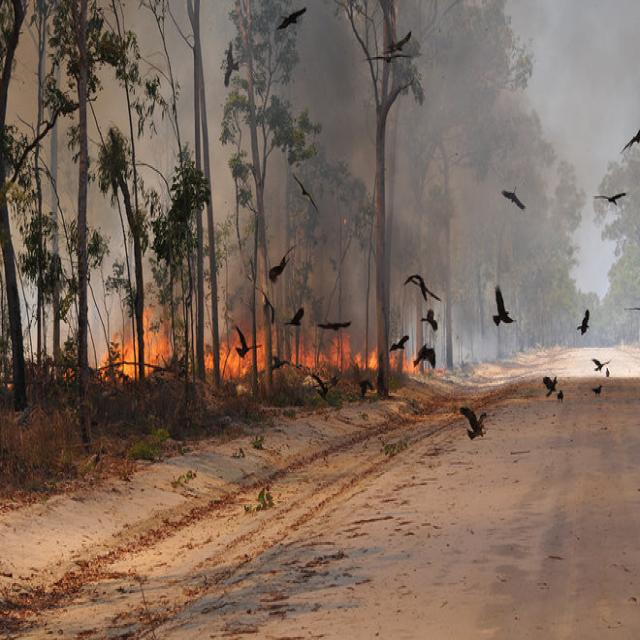smoke: (310, 14, 560, 262)
